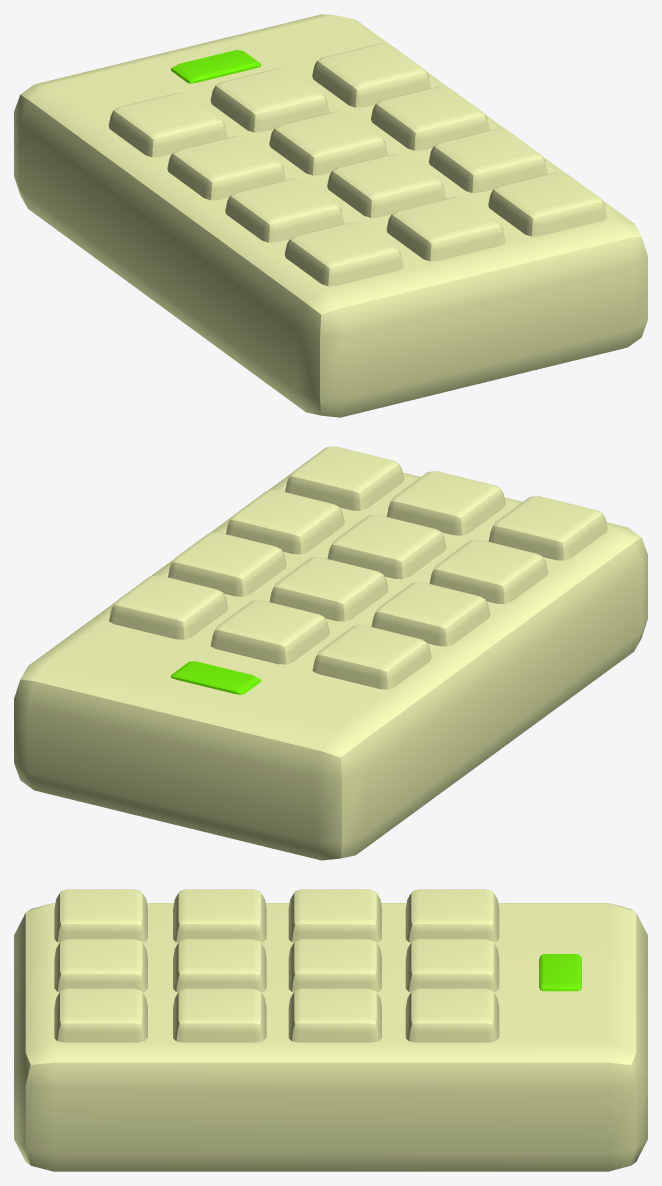
The model's file is Number_Pad.fbx.
3 renders of one model, top to bottom at view 1: azimuth 30°, elevation 25°; view 2: azimuth 150°, elevation 25°; view 3: azimuth 270°, elevation 25°, orthographic.
Parts seen in each view (by area): view 1: key_pad, key_pound, key0, key_star, key7, key8, key9, key3, key1, key2, key6, key4 (+2 smaller); view 2: key_pad, key2, key3, key1, key0, key_star, key_pound, key5, key4, key6, key7, key8 (+2 smaller); view 3: key_pad, key3, key_pound, key6, key9, key1, key2, key_star, key7, key4, key5, key8 (+2 smaller).
Boxes of the visible parts, x1=… form: key_pad: x1=14, y1=14, x2=647, y2=417; key_pound: x1=488, y1=172, x2=607, y2=236; key0: x1=386, y1=197, x2=505, y2=261; key_star: x1=284, y1=222, x2=403, y2=286; key7: x1=225, y1=178, x2=344, y2=242; key8: x1=327, y1=153, x2=446, y2=217; key9: x1=428, y1=128, x2=547, y2=192; key3: x1=312, y1=43, x2=430, y2=107; key1: x1=108, y1=93, x2=227, y2=157; key2: x1=210, y1=68, x2=329, y2=132; key6: x1=371, y1=86, x2=489, y2=150; key4: x1=167, y1=136, x2=285, y2=200; key_pad: x1=14, y1=472, x2=647, y2=860; key2: x1=210, y1=600, x2=329, y2=664; key3: x1=109, y1=575, x2=227, y2=639; key1: x1=312, y1=625, x2=431, y2=689; key0: x1=386, y1=471, x2=505, y2=535; key_star: x1=488, y1=496, x2=607, y2=560; key_pound: x1=285, y1=446, x2=403, y2=510; key5: x1=269, y1=557, x2=388, y2=621; key4: x1=371, y1=582, x2=490, y2=646; key6: x1=168, y1=532, x2=286, y2=596; key7: x1=429, y1=539, x2=547, y2=603; key8: x1=327, y1=514, x2=446, y2=579; key_pad: x1=14, y1=903, x2=647, y2=1171; key3: x1=405, y1=988, x2=499, y2=1042; key_pound: x1=54, y1=988, x2=147, y2=1042; key6: x1=288, y1=988, x2=381, y2=1042; key9: x1=173, y1=988, x2=266, y2=1042; key1: x1=405, y1=889, x2=499, y2=942; key2: x1=405, y1=939, x2=499, y2=992; key_star: x1=54, y1=889, x2=147, y2=942; key7: x1=173, y1=889, x2=266, y2=942; key4: x1=288, y1=889, x2=381, y2=942; key5: x1=288, y1=939, x2=381, y2=992; key8: x1=173, y1=939, x2=266, y2=991.
Bounding box in the file's own units: 0.1273 × 0.0488 × 0.2031.
